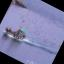fishing boat: (2, 12, 33, 42)
